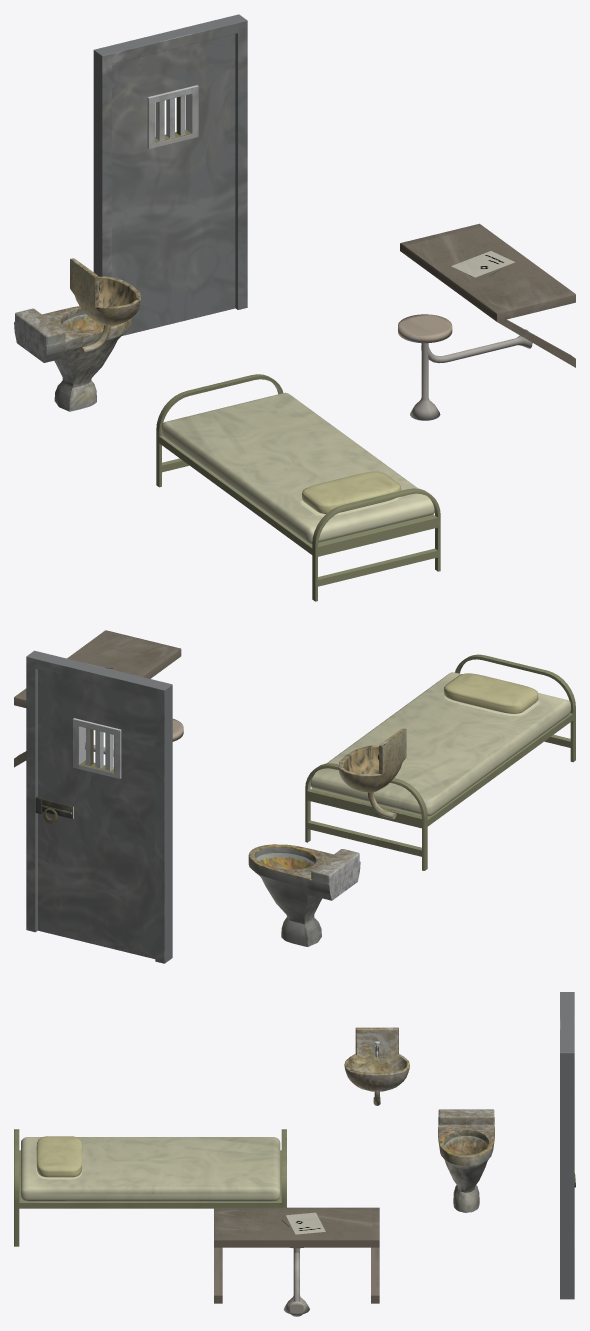
Rendered from cell parts.fbx.
3 views of the same model, one above another, from view 1: azimuth 30°, elevation 25°; view 2: azimuth 150°, elevation 25°; view 3: azimuth 270°, elevation 25° (orthographic). The views are drawn at different scales.
Visible parts, largest first — view 1: door, bed, desk, bed metal, wc, sink, pillow; view 2: door, bed, wc, bed metal, desk, sink, pillow; view 3: bed, desk, door, wc, sink, bed metal, pillow.
Part boxes in pixels (<box>): door: <box>93,14,247,335</box>; bed: <box>161,392,434,544</box>; desk: <box>398,223,575,420</box>; bed metal: <box>156,374,440,601</box>; wc: <box>14,306,131,411</box>; sink: <box>70,258,140,353</box>; pillow: <box>302,471,400,513</box>; door: <box>26,650,172,963</box>; bed: <box>310,672,570,816</box>; wc: <box>248,844,360,946</box>; bed metal: <box>305,654,575,870</box>; desk: <box>14,630,183,767</box>; sink: <box>338,728,406,819</box>; pillow: <box>444,673,538,713</box>; bed: <box>21,1137,280,1201</box>; desk: <box>214,1207,379,1316</box>; door: <box>560,992,575,1299</box>; wc: <box>438,1109,494,1212</box>; sink: <box>344,1027,409,1105</box>; bed metal: <box>14,1129,286,1246</box>; pillow: <box>36,1136,82,1177</box>.
Size of the model in its own units: 972 by 670 by 1386.
